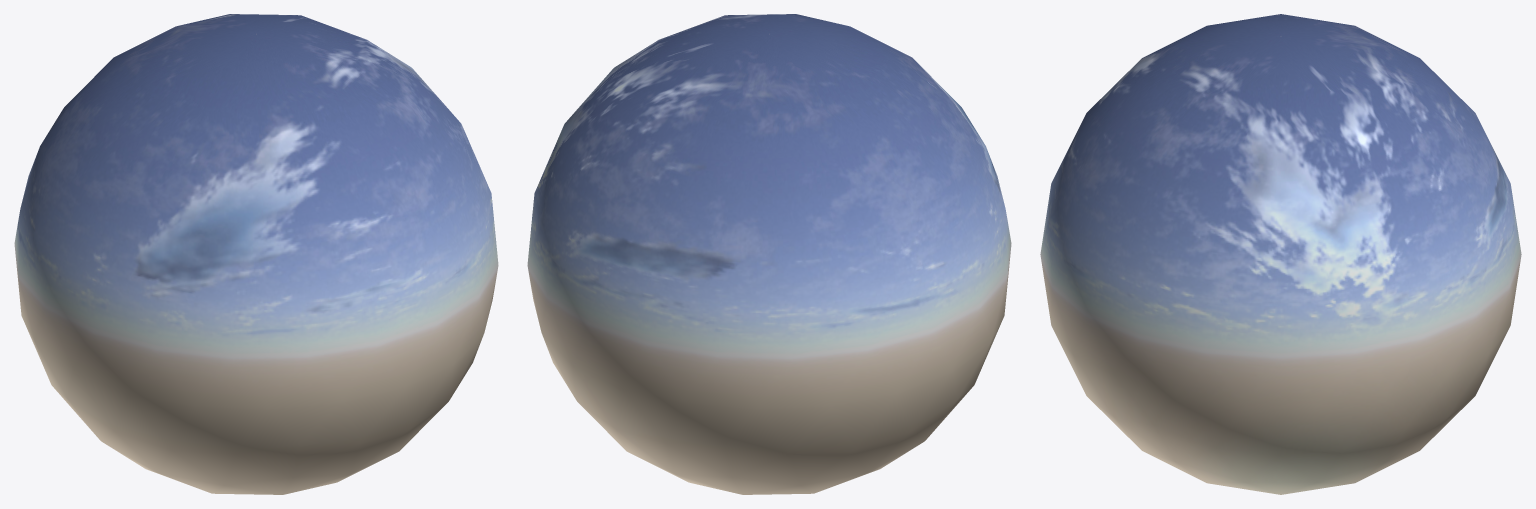
Rendered from SkyDome.dae.
3 renders of one model, left to right at view 1: azimuth 30°, elevation 25°; view 2: azimuth 150°, elevation 25°; view 3: azimuth 270°, elevation 25°, orthographic.
Parts seen in each view (by area): view 1: GeoSphere01; view 2: GeoSphere01; view 3: GeoSphere01.
Part boxes in pixels (x1=…): GeoSphere01: x1=14, y1=14, x2=498, y2=494; GeoSphere01: x1=527, y1=14, x2=1011, y2=494; GeoSphere01: x1=1040, y1=14, x2=1521, y2=494.
Bounding box in the file's own units: 1173 × 1173 × 1173.
Materials: 1 (1 with a texture image).
